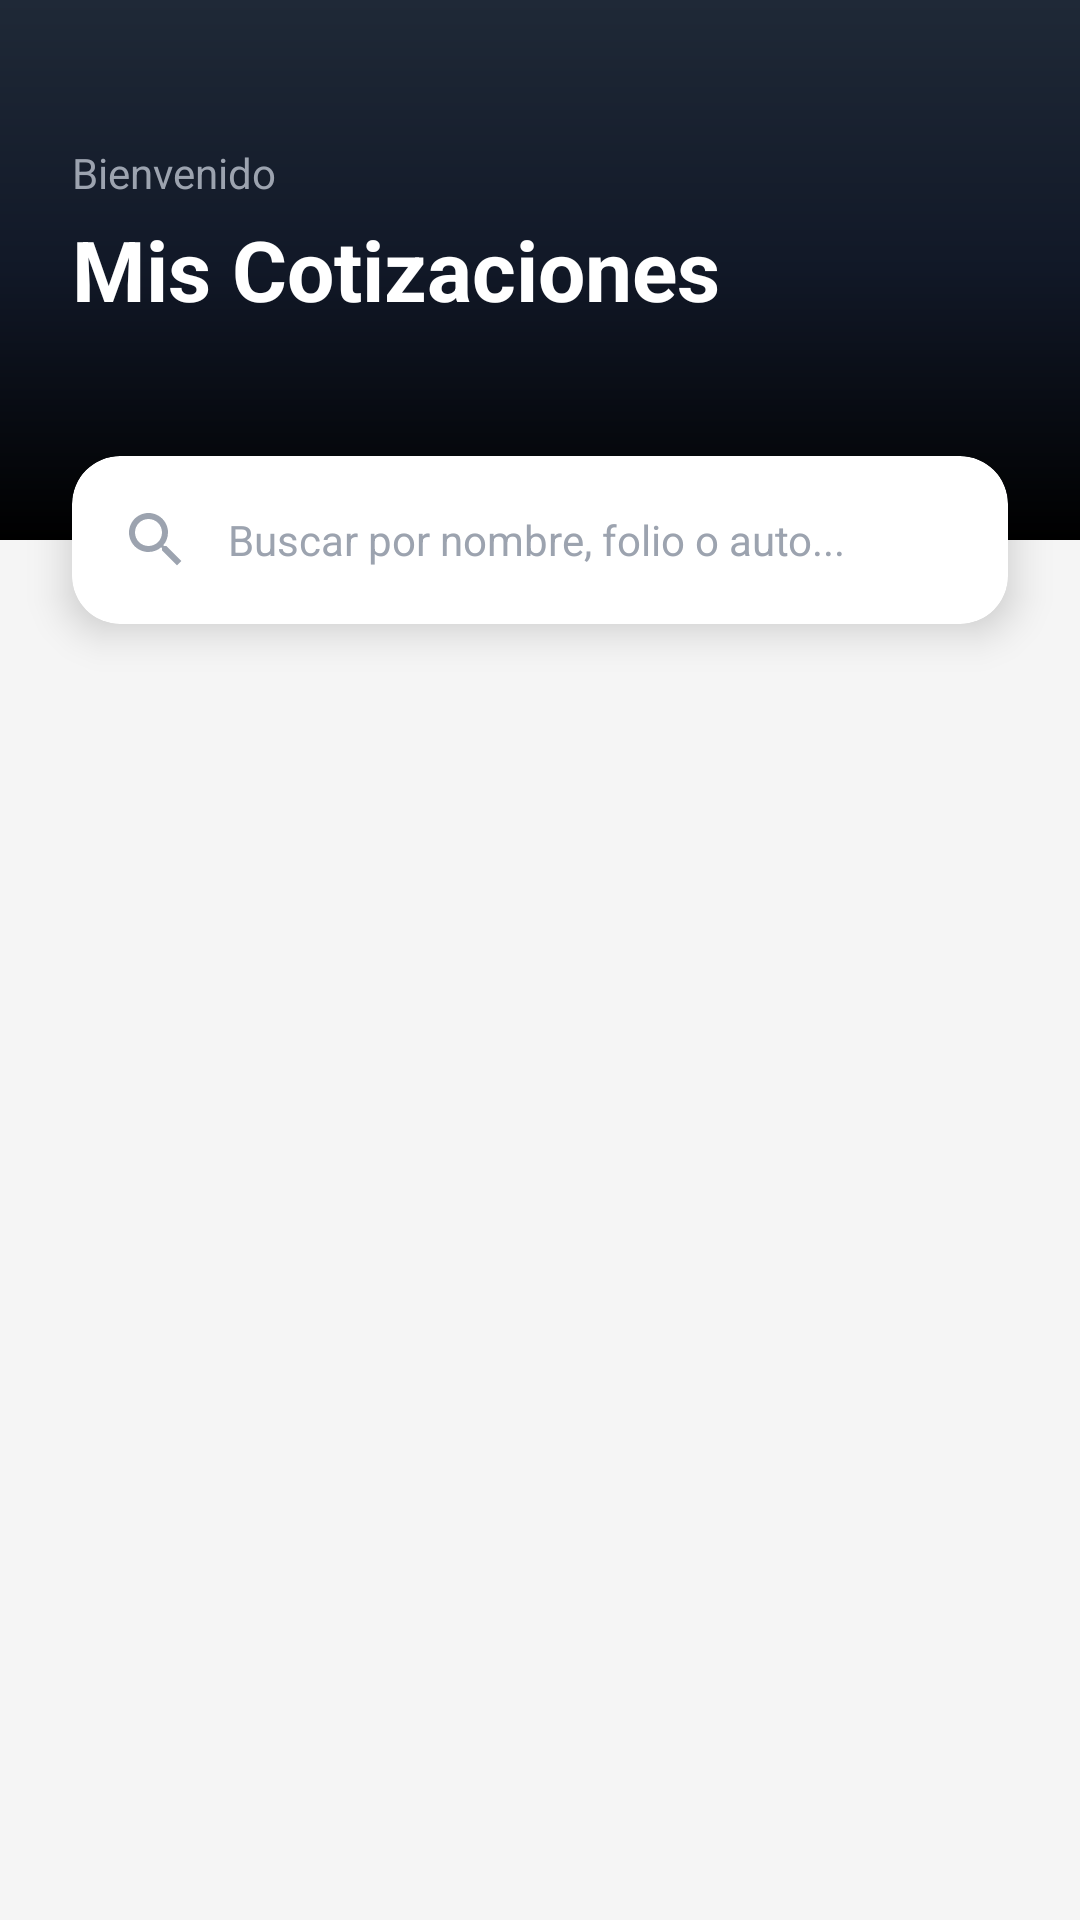

Where to tap for icons on this 1080*1920 app screen, as [x,y]:
search: [155,539]
